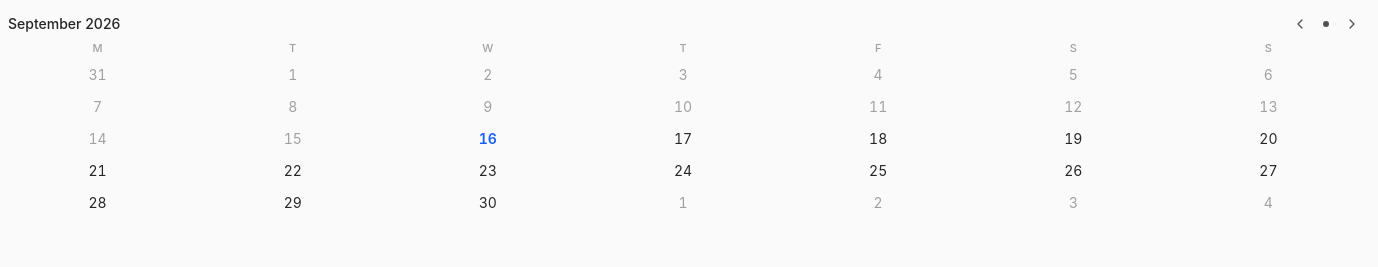
DateCalendar › grows and shrinks by a row as paging moves between months (DUE-15)
Note: August 2026 opens on a Saturday and runs 31 days: a sixth week.
Step 1. Click the button named "Previous month" → x=1300, y=24, box [1288,12,1312,36]
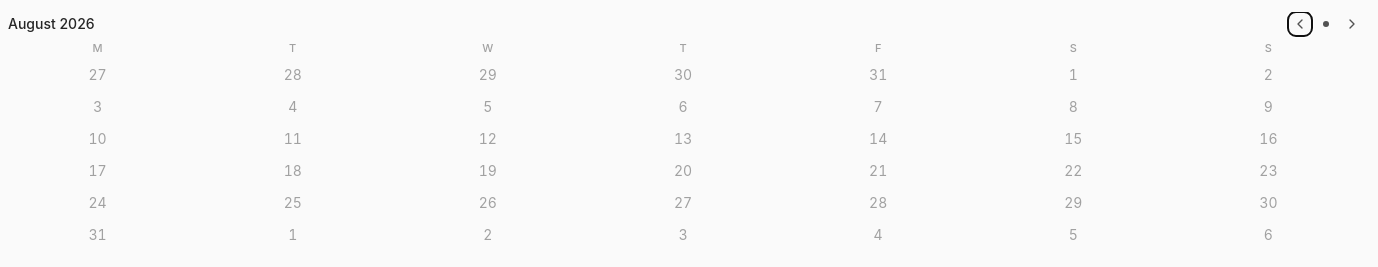
Check: the number of cells is 42
Step 2. Click the button named "Next month" → x=1352, y=24, box [1340,12,1364,36]
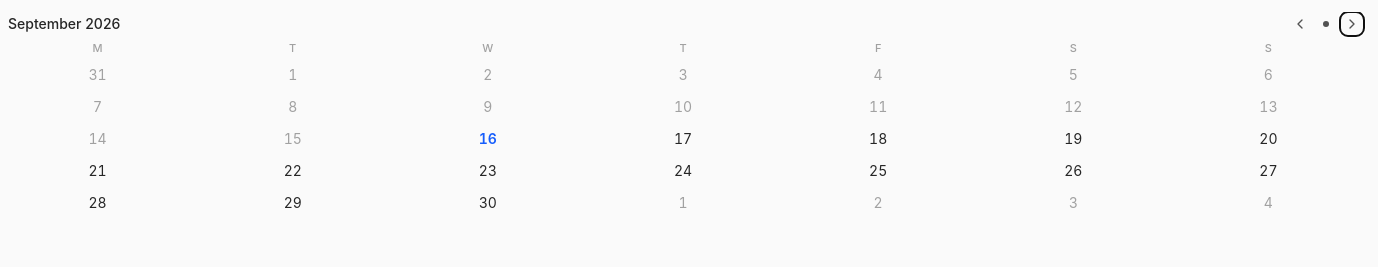
Check: the number of cells is 35
